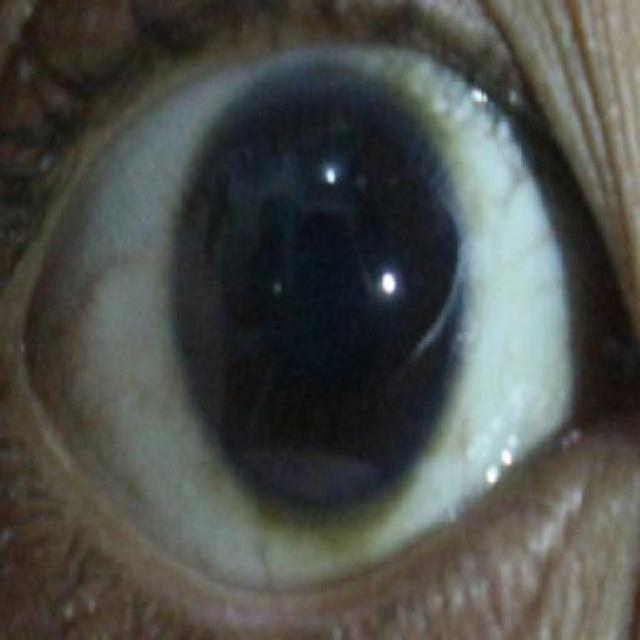Normal: (171, 59, 462, 522)
